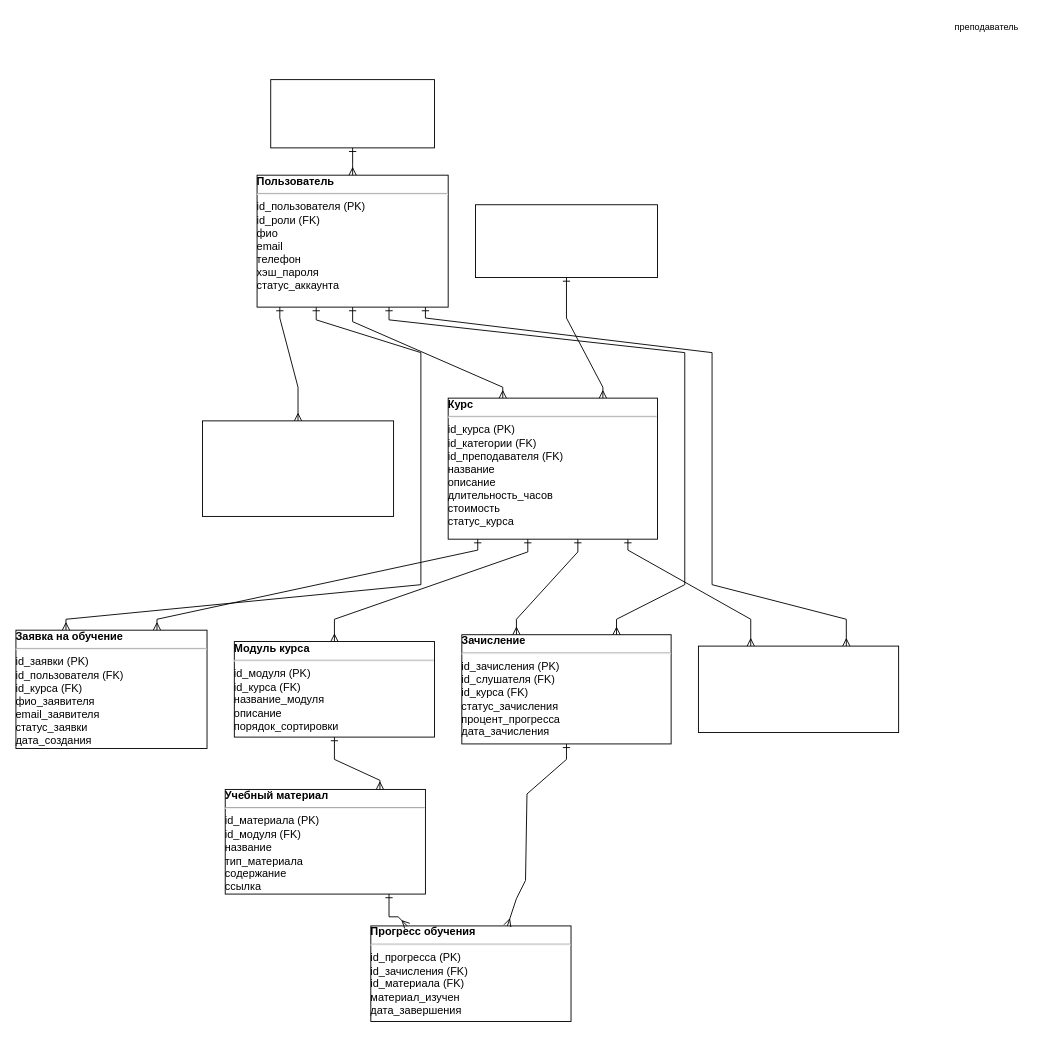
Image size: 1051x1037. Some labels were removed from this diagram. Each missing label, with the centre of its shape:
Доступ к разделам id_слушателя (FK) id_курса (FK) тип_раздела доступ_включен: point (798, 689)
Журнал действий id_записи (PK) id_пользователя (FK) тип_действия описание время: point (298, 468)
Категория курсов id_категории (PK) название описание: point (566, 241)
Роль id_роли (PK) название_роли описание: point (352, 113)
